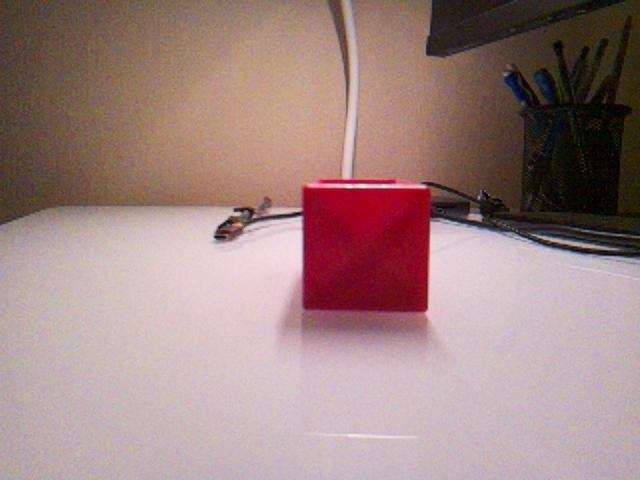red: (301, 177, 432, 313)
